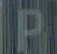Parking: (11, 8, 47, 52)
